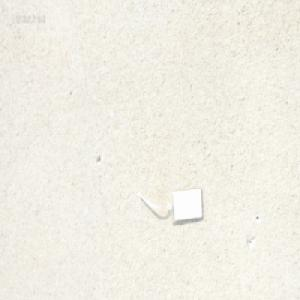LuggageTag: (132, 182, 203, 224)
